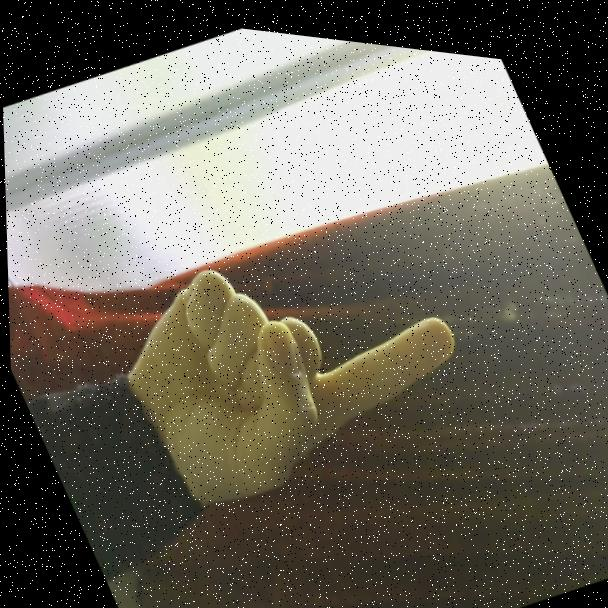one: (23, 80, 558, 608)
